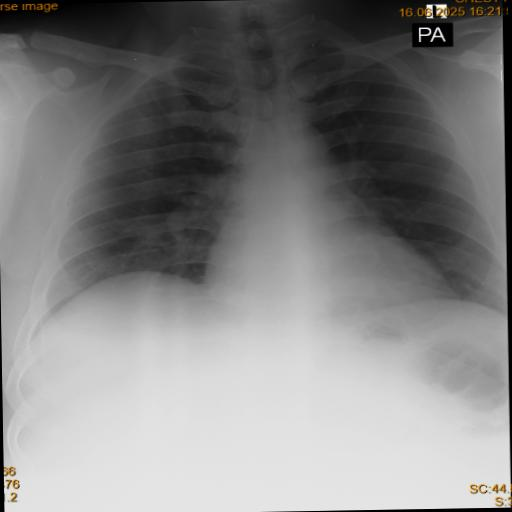kardiomegali: (24, 19, 500, 355)
